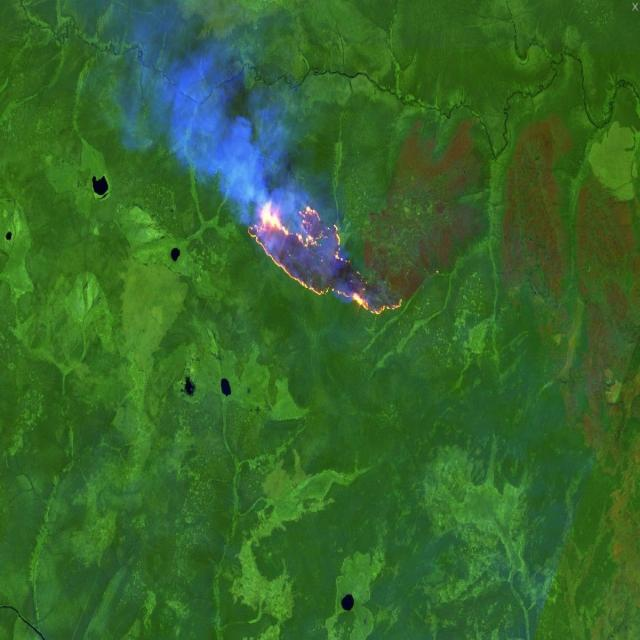fire: (244, 195, 405, 322)
